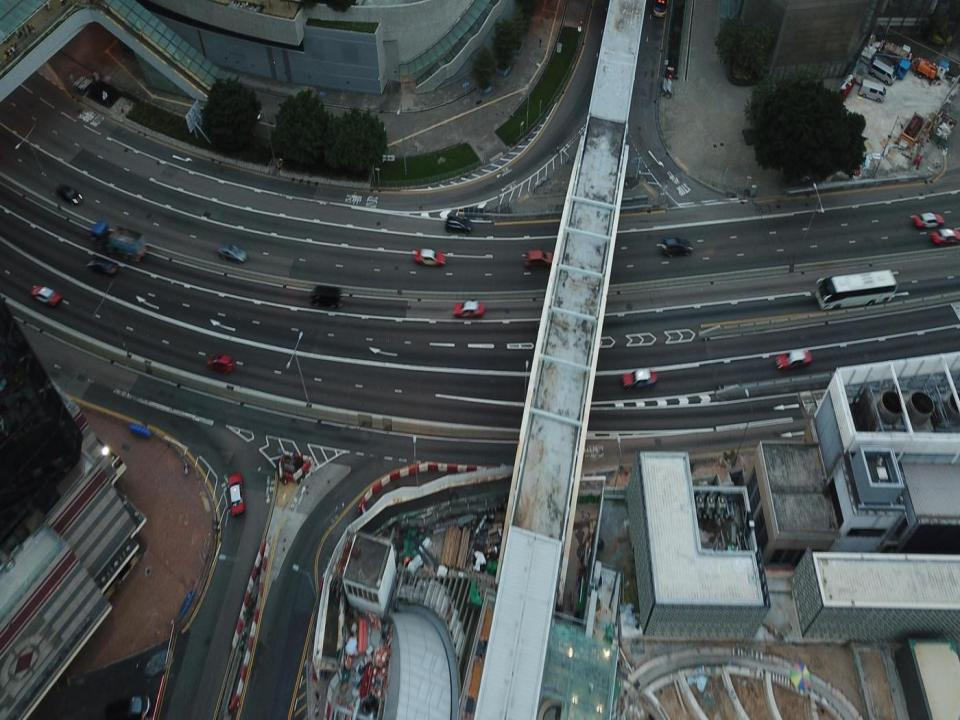bus: (815, 270, 897, 312), (650, 0, 668, 19)
car: (102, 695, 150, 719), (775, 346, 812, 368), (202, 350, 236, 373), (451, 298, 488, 318), (412, 247, 448, 267), (624, 368, 656, 390), (228, 472, 244, 516), (31, 283, 63, 305), (86, 256, 118, 278), (929, 224, 960, 246), (54, 182, 82, 206), (911, 210, 946, 229), (218, 243, 248, 262), (523, 251, 556, 268), (444, 216, 475, 234), (660, 238, 693, 254)
truck: (88, 222, 147, 260), (867, 49, 910, 78)
van: (858, 78, 888, 105), (309, 285, 344, 308), (870, 60, 896, 82)
